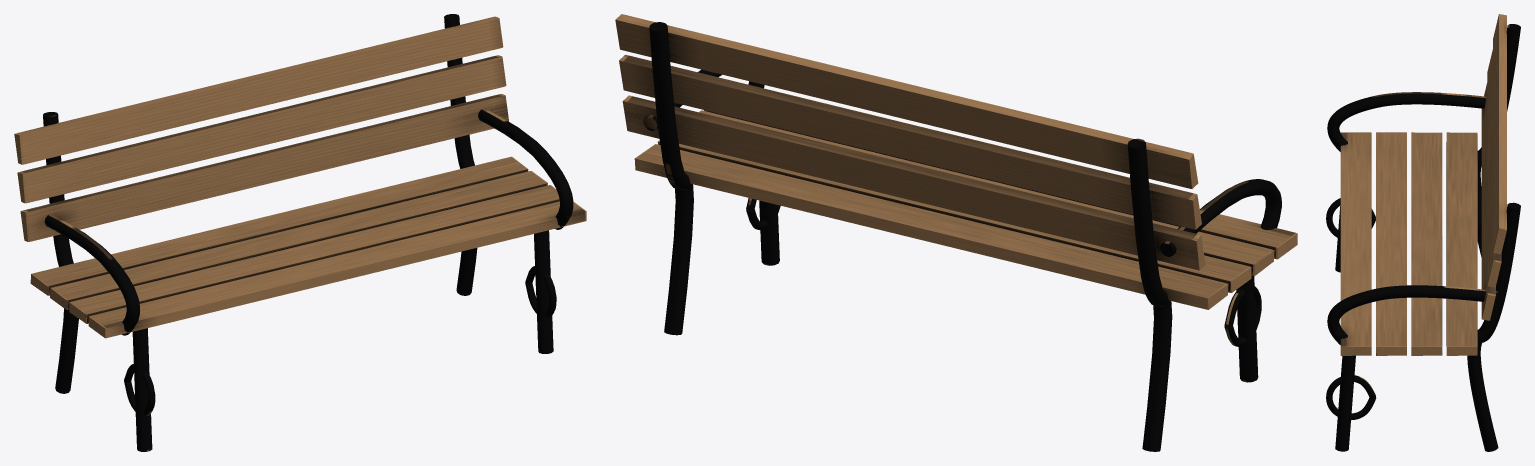
The model's file is cenario_banco_praca.glb.
3 views of the same model, side by side, from view 1: azimuth 30°, elevation 25°; view 2: azimuth 150°, elevation 25°; view 3: azimuth 270°, elevation 25° (orthographic). The views are drawn at different scales.
Visible parts, largest first — view 1: cenario_banco_praca; view 2: cenario_banco_praca; view 3: cenario_banco_praca.
Part boxes in pixels (x1=…): cenario_banco_praca: x1=14, y1=14, x2=586, y2=451; cenario_banco_praca: x1=615, y1=14, x2=1297, y2=451; cenario_banco_praca: x1=1326, y1=14, x2=1520, y2=451.
Size of the model in its own units: 1.8 by 0.9582 by 0.6902.
Materials: 1 (1 with a texture image).
